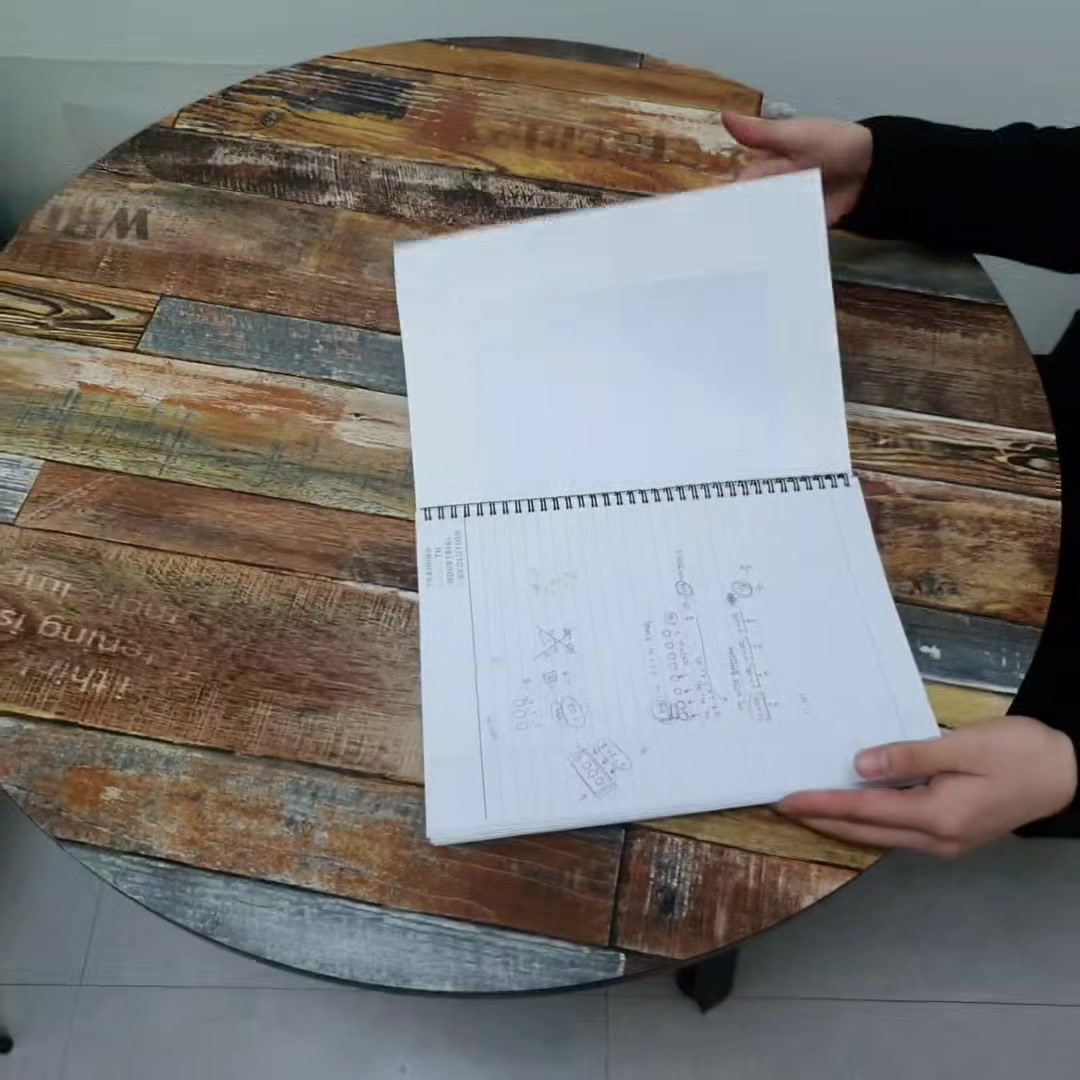book: (392, 162, 972, 853)
